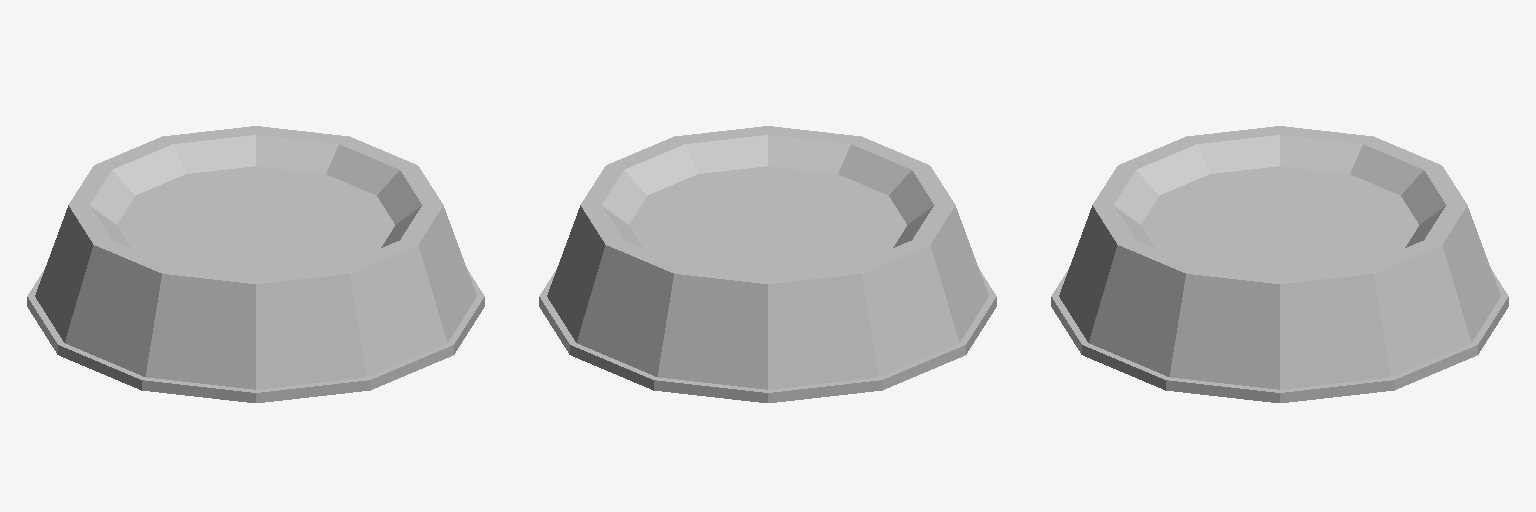
Rendered from FullBowl.obj.
The picture shows the model from 3 angles: view 1: azimuth 30°, elevation 25°; view 2: azimuth 150°, elevation 25°; view 3: azimuth 270°, elevation 25°; orthographic projection.
Visible parts, largest first — view 1: Circle; view 2: Circle; view 3: Circle.
Part boxes in pixels (x1,y1,x2,y2): Circle: (27, 126, 484, 402); Circle: (539, 126, 996, 402); Circle: (1051, 126, 1508, 402).
Bounding box in the file's own units: 0.9268 × 0.2274 × 0.9268.